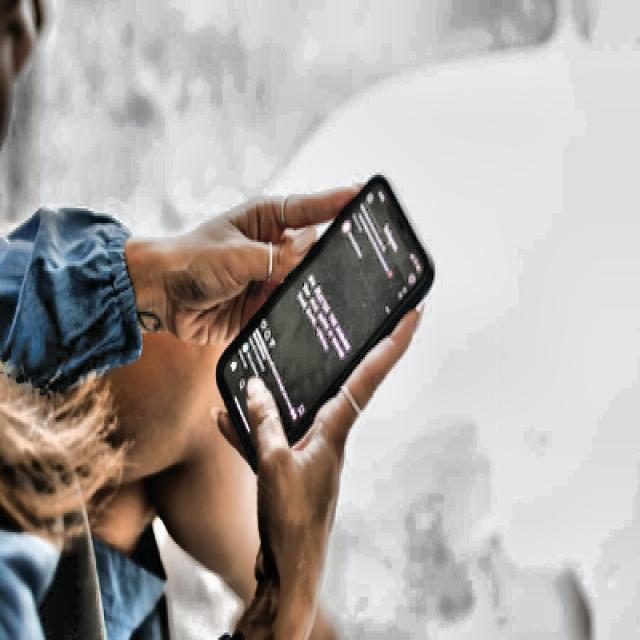Phone: (212, 172, 436, 474)
